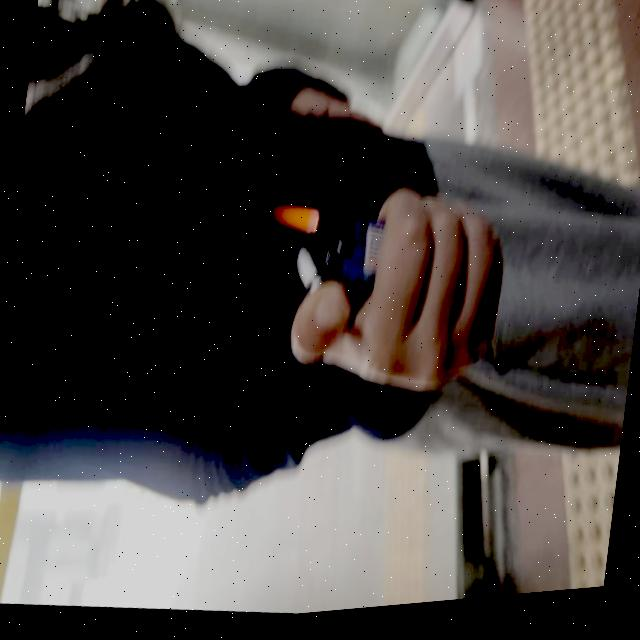Fire: (259, 200, 321, 249)
